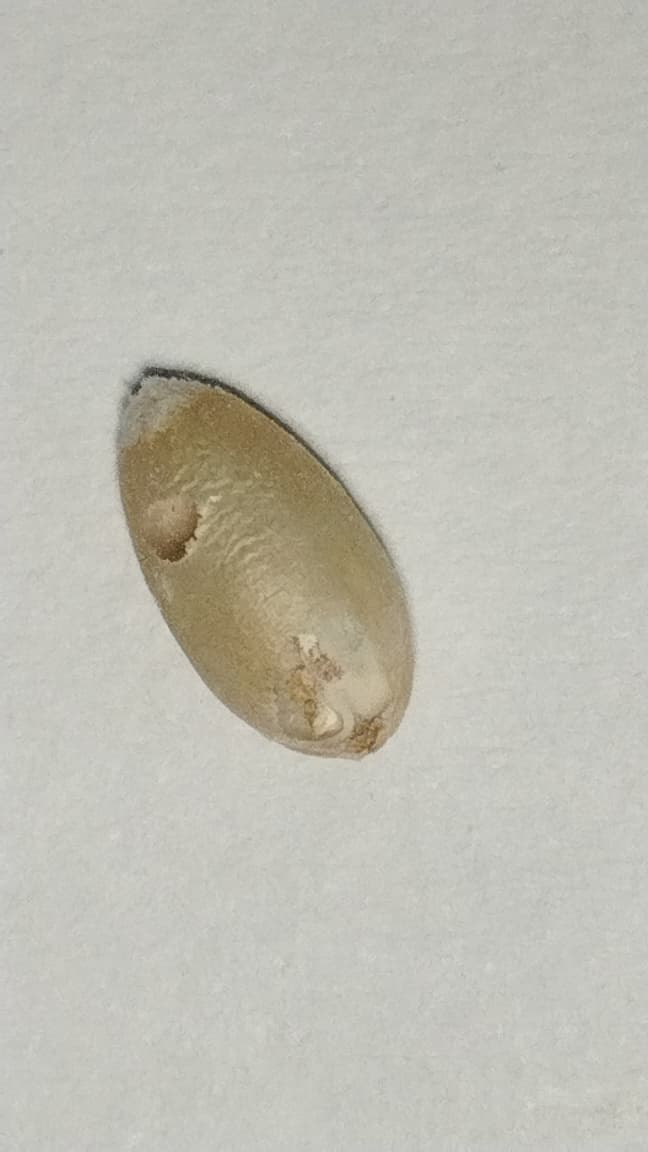damage: (118, 372, 415, 759)
insectdamage: (274, 635, 403, 751), (130, 477, 225, 602)
